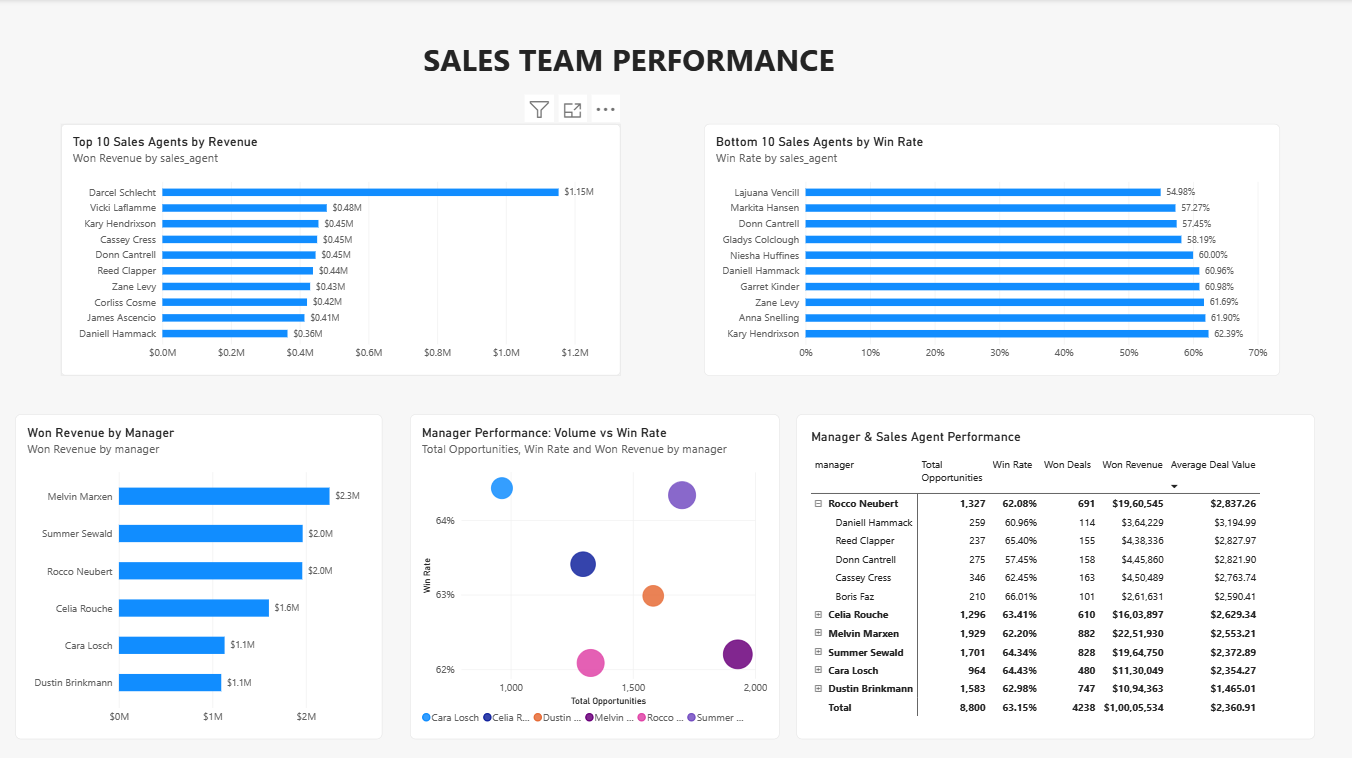

This screenshot's page, from the dashboard's own definition file:
{"tool":"powerbi","page":{"name":"Sales Team Performance","canvas":[1920,1080],"ordinal":1},"visuals":[{"type":"clusteredBarChart","title":"Top 10 Sales Agents by Revenue","fields":{"Category":["DimSalesTeam.sales_agent"],"Y":["FactSalesPipeline.Won Revenue"]},"box":[91,175.3,786.6,353.8],"z":0},{"type":"clusteredBarChart","title":"Bottom 10 Sales Agents by Win Rate","fields":{"Category":["DimSalesTeam.sales_agent"],"Y":["FactSalesPipeline.Win Rate"]},"box":[994.6,175.3,809.1,354],"z":1000},{"type":"clusteredBarChart","title":"Won Revenue by Manager","fields":{"Category":["DimSalesTeam.manager"],"Y":["FactSalesPipeline.Won Revenue"]},"box":[27,583.2,515.8,456.5],"z":2000},{"type":"scatterChart","title":"Manager Performance: Volume vs Win Rate","fields":{"Series":["DimSalesTeam.manager"],"Size":["FactSalesPipeline.Won Revenue"],"X":["FactSalesPipeline.Total Opportunities"],"Y":["FactSalesPipeline.Win Rate"]},"box":[581.6,583.2,519.2,456.8],"z":3000},{"type":"pivotTable","title":"Manager & Sales Agent Performance","fields":{"Rows":["DimSalesTeam.manager","DimSalesTeam.sales_agent"],"Values":["FactSalesPipeline.Total Opportunities","FactSalesPipeline.Win Rate","FactSalesPipeline.Won Deals","FactSalesPipeline.Won Revenue","FactSalesPipeline.Average Deal Value"]},"box":[1124.4,583.2,728.2,456.8],"z":4000},{"type":"textbox","box":[600.8,55.3,877.5,104.7],"z":5000}]}

Visuals, with their boxes in screenshot pixels (x1, y1, x2, y2), scaled from the page's 1920x1080 canvas onto the 1352x758 screenshot:
"Top 10 Sales Agents by Revenue" clusteredBarChart: <region>64, 123, 618, 371</region>
"Bottom 10 Sales Agents by Win Rate" clusteredBarChart: <region>700, 123, 1270, 371</region>
"Won Revenue by Manager" clusteredBarChart: <region>19, 409, 382, 730</region>
"Manager Performance: Volume vs Win Rate" scatterChart: <region>410, 409, 775, 730</region>
"Manager & Sales Agent Performance" pivotTable: <region>792, 409, 1305, 730</region>
textbox: <region>423, 39, 1041, 112</region>
